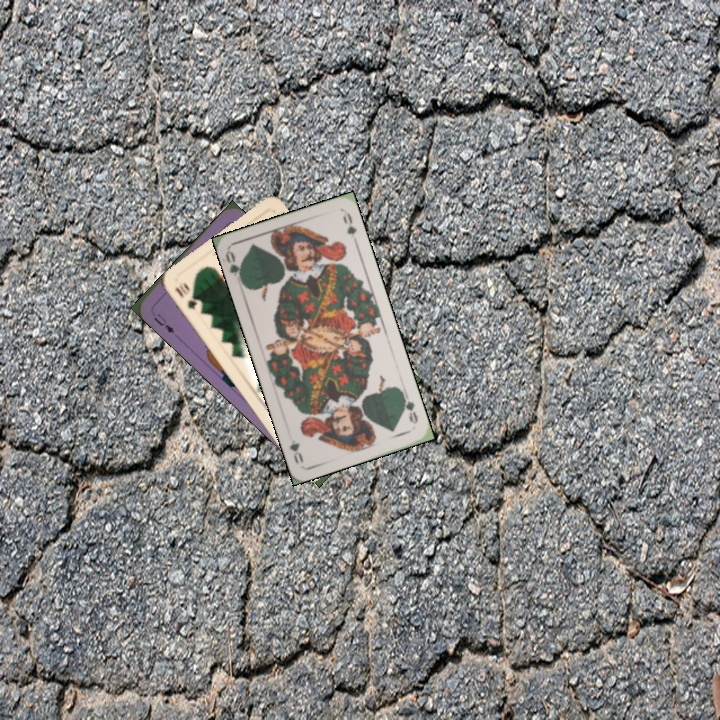EU: (150, 309, 177, 336)
G10: (171, 279, 200, 312)
GO: (221, 247, 245, 286), (399, 388, 420, 427)
